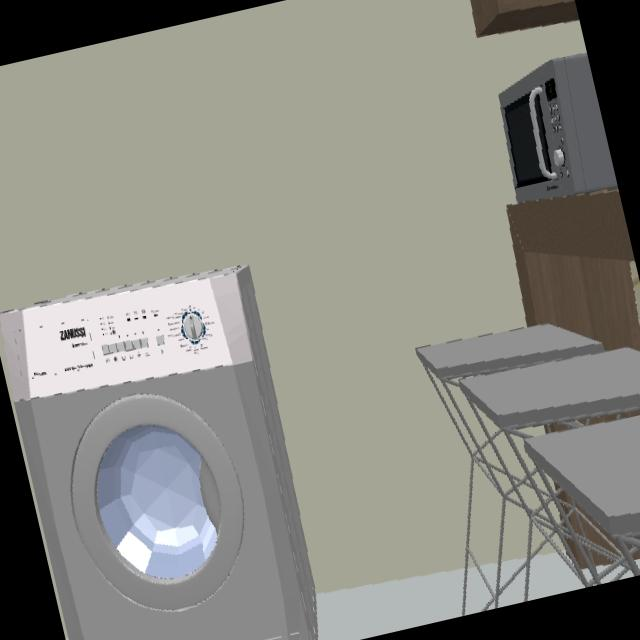microwave: (500, 52, 618, 204)
